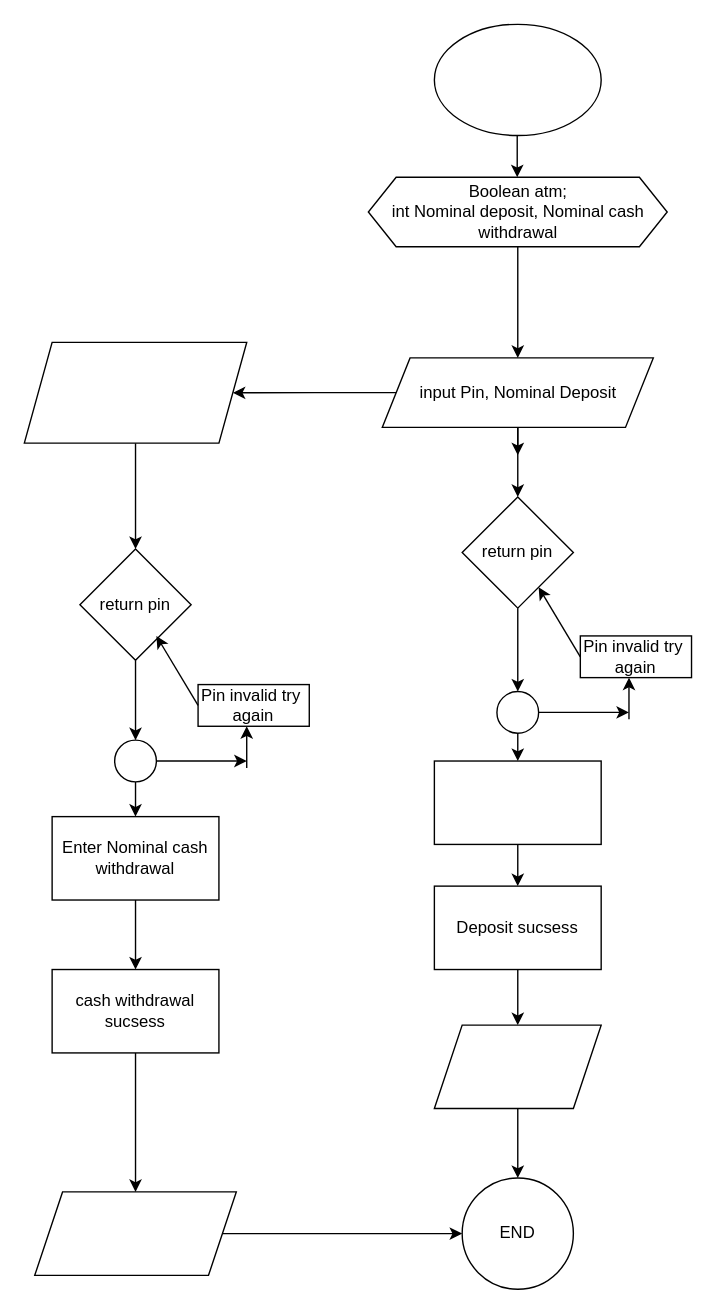
Some shapes in this 716 by 1314 pixel diagram are drawn without their labels. Each missing label, with the centre of its shape:
Enter Nominal Deposit: point 517,802
Input Pin, nominal Cash withdrawal: point 135,392
Output Recipt cash withdrawal: point 134,1233
Output Recipt Deposit: point 517,1066
Start: point 517,79
